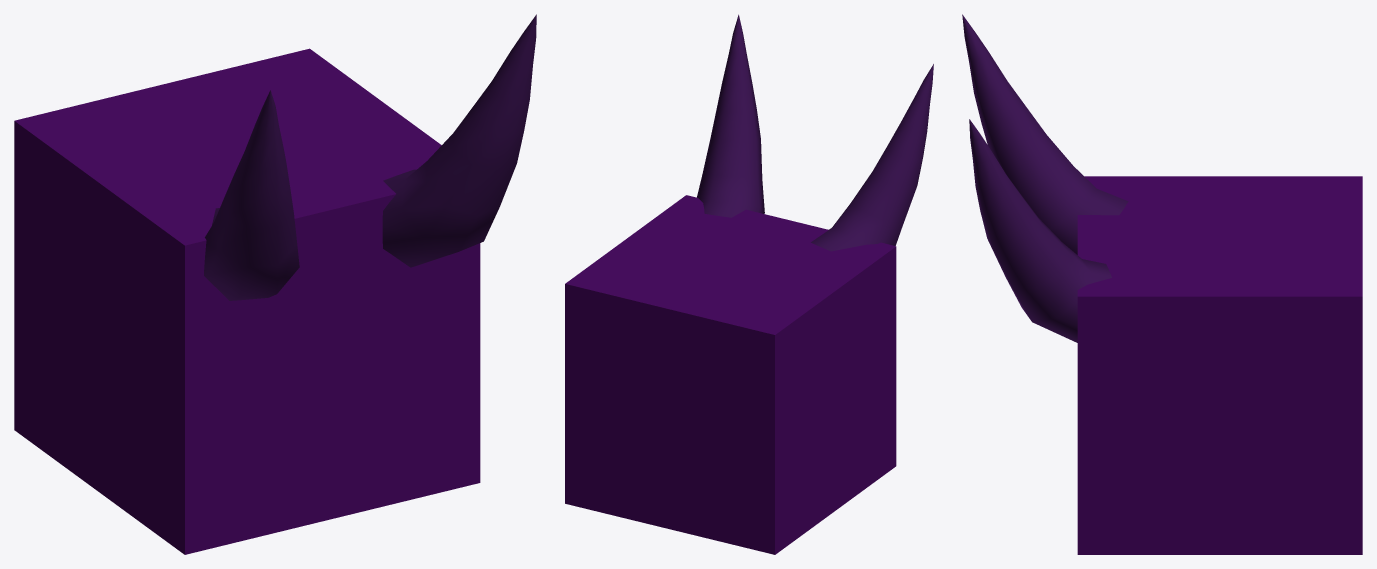
Rendered from DemonCube.fbx.
3 views of the same model, side by side, from view 1: azimuth 30°, elevation 25°; view 2: azimuth 150°, elevation 25°; view 3: azimuth 270°, elevation 25° (orthographic). The views are drawn at different scales.
Parts seen in each view (by area): view 1: pCube1, pCone3; view 2: pCube1, pCone3; view 3: pCube1, pCone3.
Part boxes in pixels (x1,y1,x2,y2): pCube1: [14, 48, 480, 554]; pCone3: [204, 14, 536, 300]; pCube1: [565, 195, 896, 554]; pCone3: [697, 14, 933, 251]; pCube1: [1077, 176, 1362, 554]; pCone3: [962, 14, 1128, 342].
Size of the model in its own units: 1 by 1.68 by 1.41.
